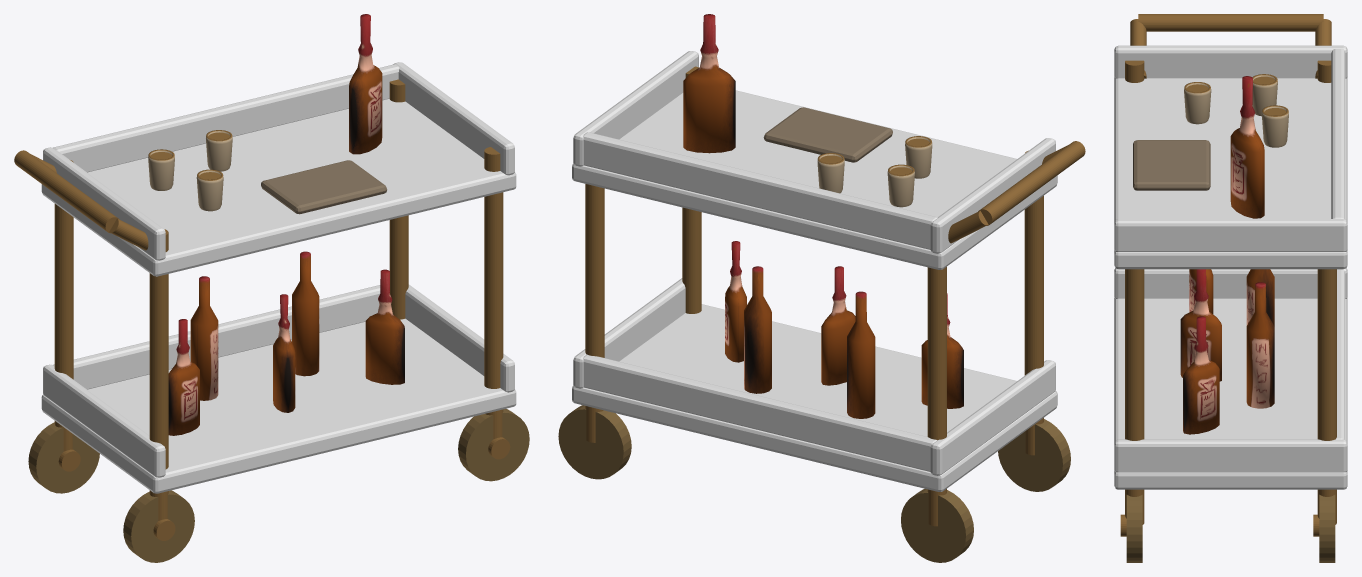
The model's file is ServiceCart.fbx.
3 renders of one model, left to right at view 1: azimuth 30°, elevation 25°; view 2: azimuth 150°, elevation 25°; view 3: azimuth 270°, elevation 25°, orthographic. The views are drawn at different scales.
Parts seen in each view (by area): view 1: Part_ServiceCartShelf.001, Part_ServiceCartShelf, Part_ServiceCartBack.001, Part_ServiceCartBack, Part_ServiceCartEnd, Part_ServiceCartPost.002, Part_FoldedServiceTowel, Part_ServiceCartEnd.003, Part_ServiceCartPost, Part_ServiceCartPost.001, Part_ServiceCartEnd.001, Part_ServiceDecanter (+15 smaller); view 2: Part_ServiceCartShelf, Part_ServiceCartShelf.001, Part_ServiceCartBack.001, Part_ServiceCartBack, Part_ServiceDecanter, Part_ServiceCartEnd, Part_FoldedServiceTowel, Part_ServiceCartEnd.003, Part_ServiceCartWheel.003, Part_ServiceCartWheel.001, Part_ServiceCartPost.001, Part_ServiceCartPost.003 (+15 smaller); view 3: Part_ServiceCartShelf.001, Part_ServiceCartShelf, Part_ServiceCartEnd.001, Part_ServiceCartEnd.003, Part_ServiceCartEnd.002, Part_ServiceCartEnd, Part_FoldedServiceTowel, Part_ServiceCartPost.002, Part_ServiceCartPost.003, Part_ServiceDecanter, Part_ServiceCartHandle, Part_CartBottle.004 (+15 smaller).
Part boxes in pixels (left/top/right/bottom): Part_ServiceCartShelf.001: left=41, top=98, right=516, bottom=276; Part_ServiceCartShelf: left=41, top=318, right=516, bottom=493; Part_ServiceCartBack.001: left=53, top=64, right=399, bottom=172; Part_ServiceCartBack: left=53, top=285, right=380, bottom=389; Part_ServiceCartEnd: left=43, top=364, right=165, bottom=477; Part_ServiceCartPost.002: left=484, top=147, right=503, bottom=439; Part_FoldedServiceTowel: left=261, top=160, right=387, bottom=214; Part_ServiceCartEnd.003: left=393, top=62, right=514, bottom=175; Part_ServiceCartPost: left=149, top=229, right=168, bottom=520; Part_ServiceCartPost.001: left=54, top=160, right=73, bottom=451; Part_ServiceCartEnd.001: left=405, top=284, right=514, bottom=392; Part_ServiceDecanter: left=349, top=14, right=382, bottom=154; Part_ServiceCartShelf: left=572, top=304, right=1057, bottom=491; Part_ServiceCartShelf.001: left=572, top=90, right=1057, bottom=269; Part_ServiceCartBack.001: left=583, top=132, right=937, bottom=249; Part_ServiceCartBack: left=583, top=354, right=937, bottom=471; Part_ServiceDecanter: left=683, top=14, right=735, bottom=153; Part_ServiceCartEnd: left=930, top=360, right=1055, bottom=475; Part_FoldedServiceTowel: left=763, top=107, right=892, bottom=162; Part_ServiceCartEnd.003: left=573, top=51, right=698, bottom=166; Part_ServiceCartWheel.003: left=558, top=405, right=631, bottom=479; Part_ServiceCartWheel.001: left=901, top=489, right=973, bottom=562; Part_ServiceCartPost.001: left=927, top=267, right=946, bottom=526; Part_ServiceCartPost.003: left=585, top=184, right=604, bottom=442; Part_ServiceCartShelf.001: left=1114, top=77, right=1347, bottom=269; Part_ServiceCartShelf: left=1114, top=298, right=1347, bottom=489; Part_ServiceCartEnd.001: left=1114, top=439, right=1347, bottom=472; Part_ServiceCartEnd.003: left=1114, top=219, right=1347, bottom=251; Part_ServiceCartEnd.002: left=1114, top=45, right=1347, bottom=78; Part_ServiceCartEnd: left=1114, top=268, right=1347, bottom=298; Part_FoldedServiceTowel: left=1133, top=140, right=1210, bottom=190; Part_ServiceCartPost.002: left=1125, top=269, right=1144, bottom=524; Part_ServiceCartPost.003: left=1317, top=269, right=1336, bottom=524; Part_ServiceDecanter: left=1230, top=76, right=1264, bottom=218; Part_ServiceCartHandle: left=1138, top=14, right=1323, bottom=31; Part_CartBottle.004: left=1183, top=316, right=1219, bottom=434.
Size of the model in its own units: 1.32 by 1.33 by 0.63.
